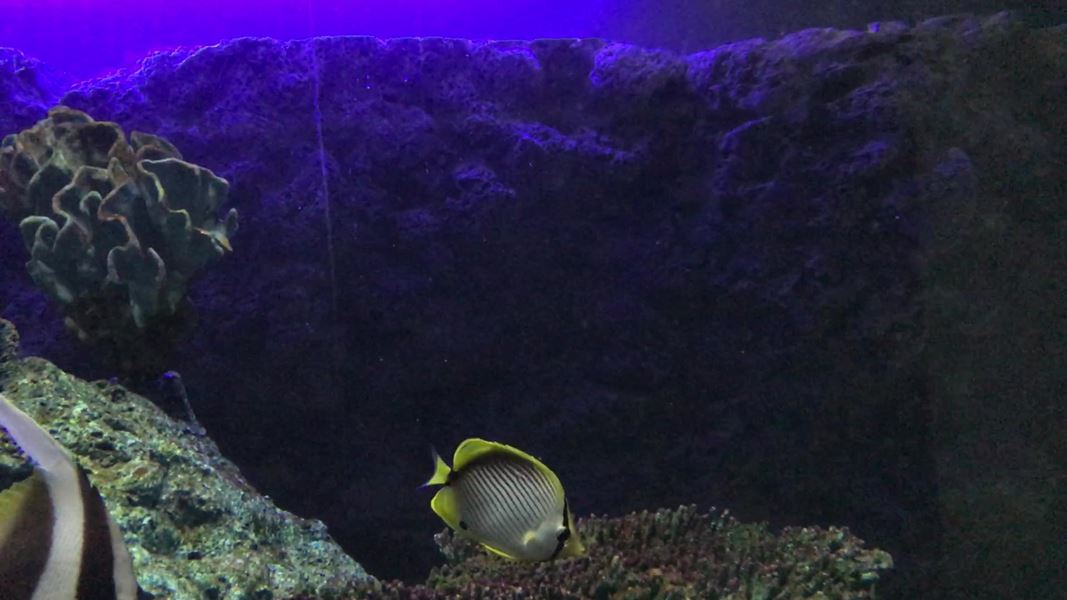Black-backed butterflyfish: (410, 427, 594, 574)
